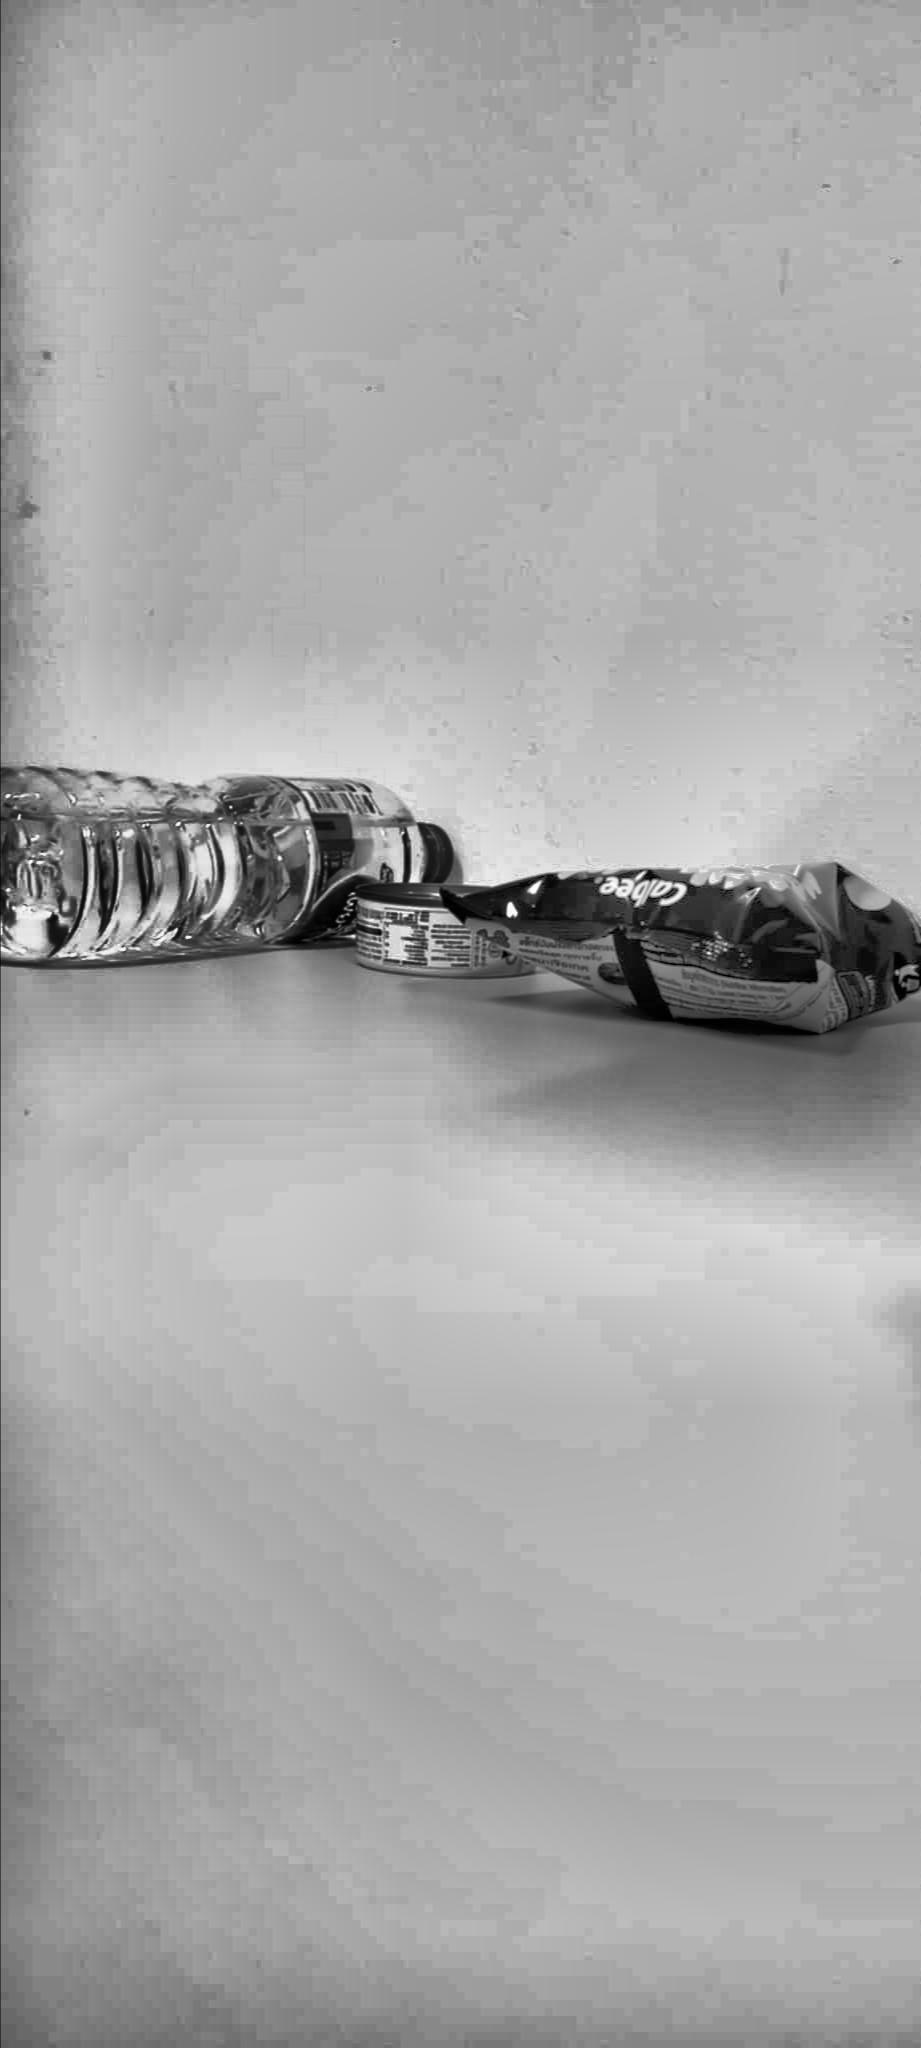can: (331, 851, 543, 1001)
snackbag: (496, 841, 921, 1094)
waterbottle: (11, 681, 475, 1021)
